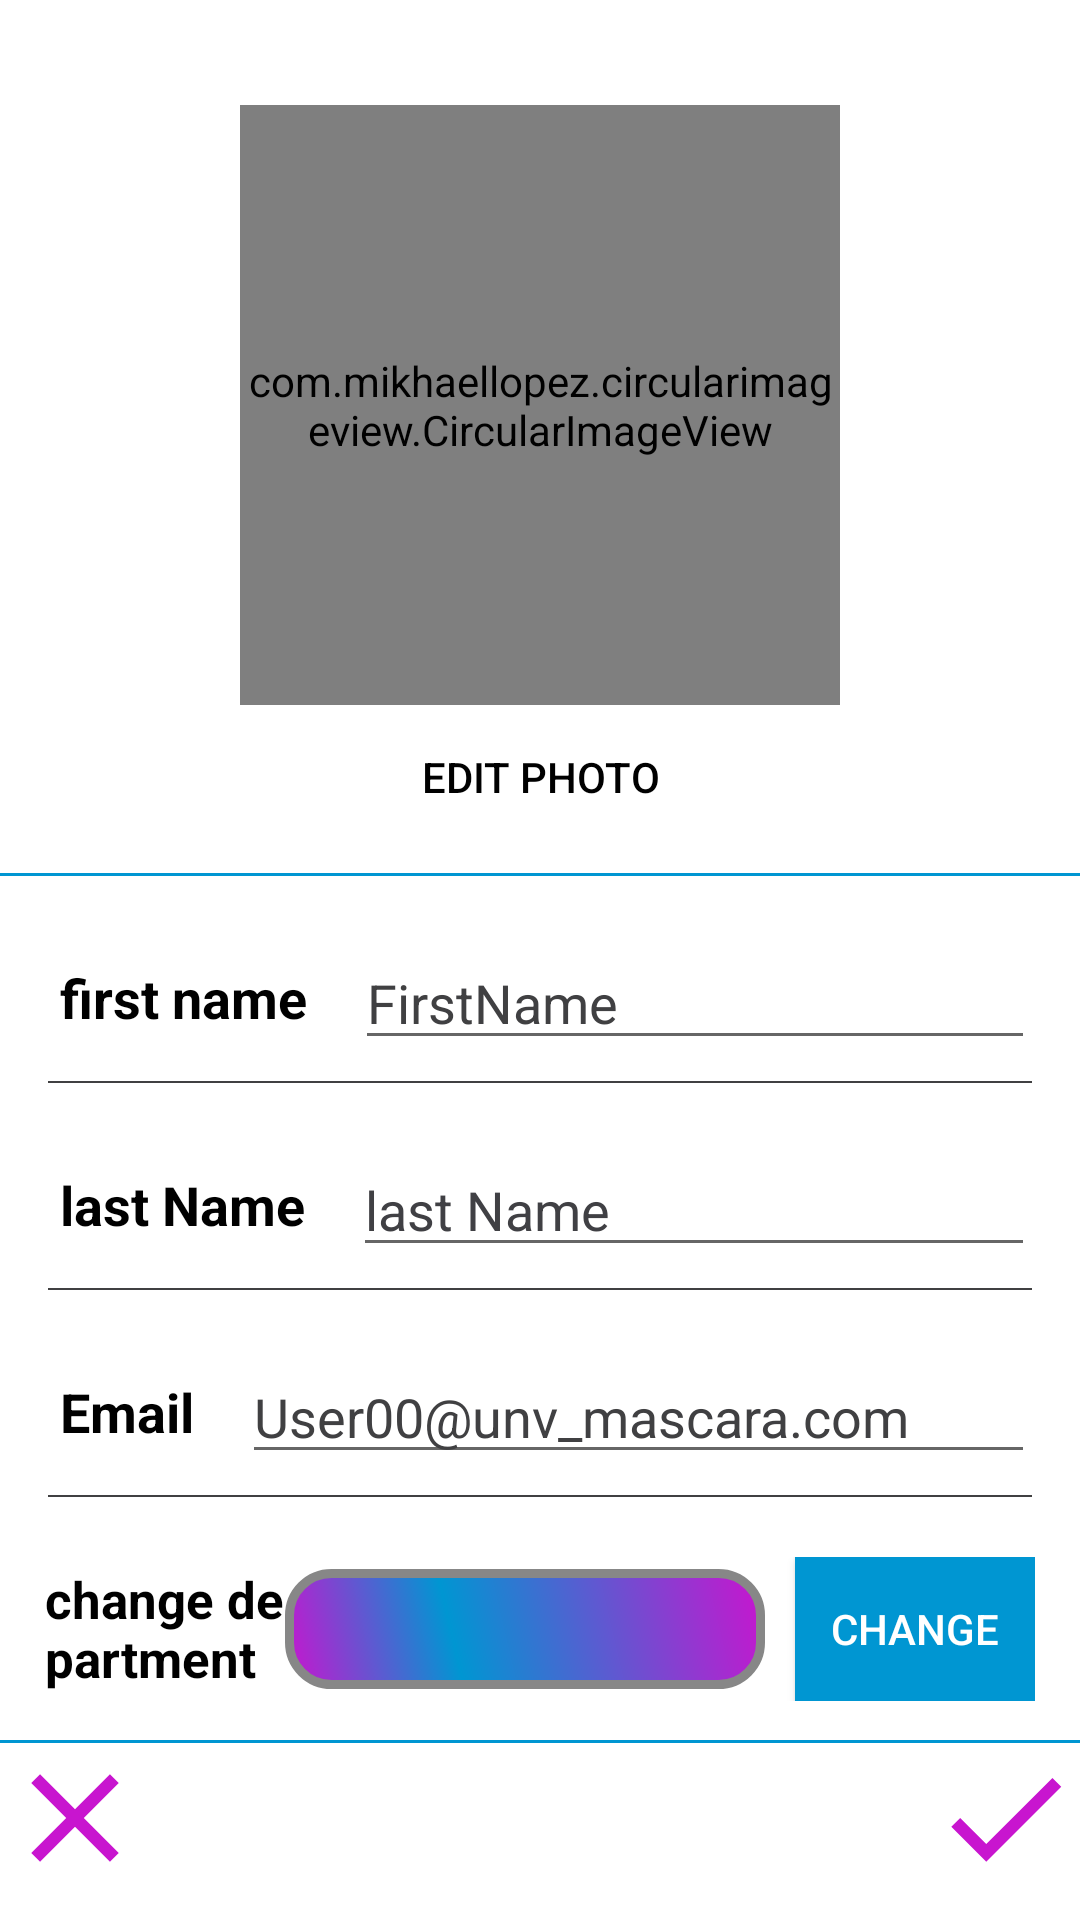

Icon click points for this 1080px x 1920px phone screenshot, format point (x, y):
check: point (1006, 1820)
close: point (75, 1818)
